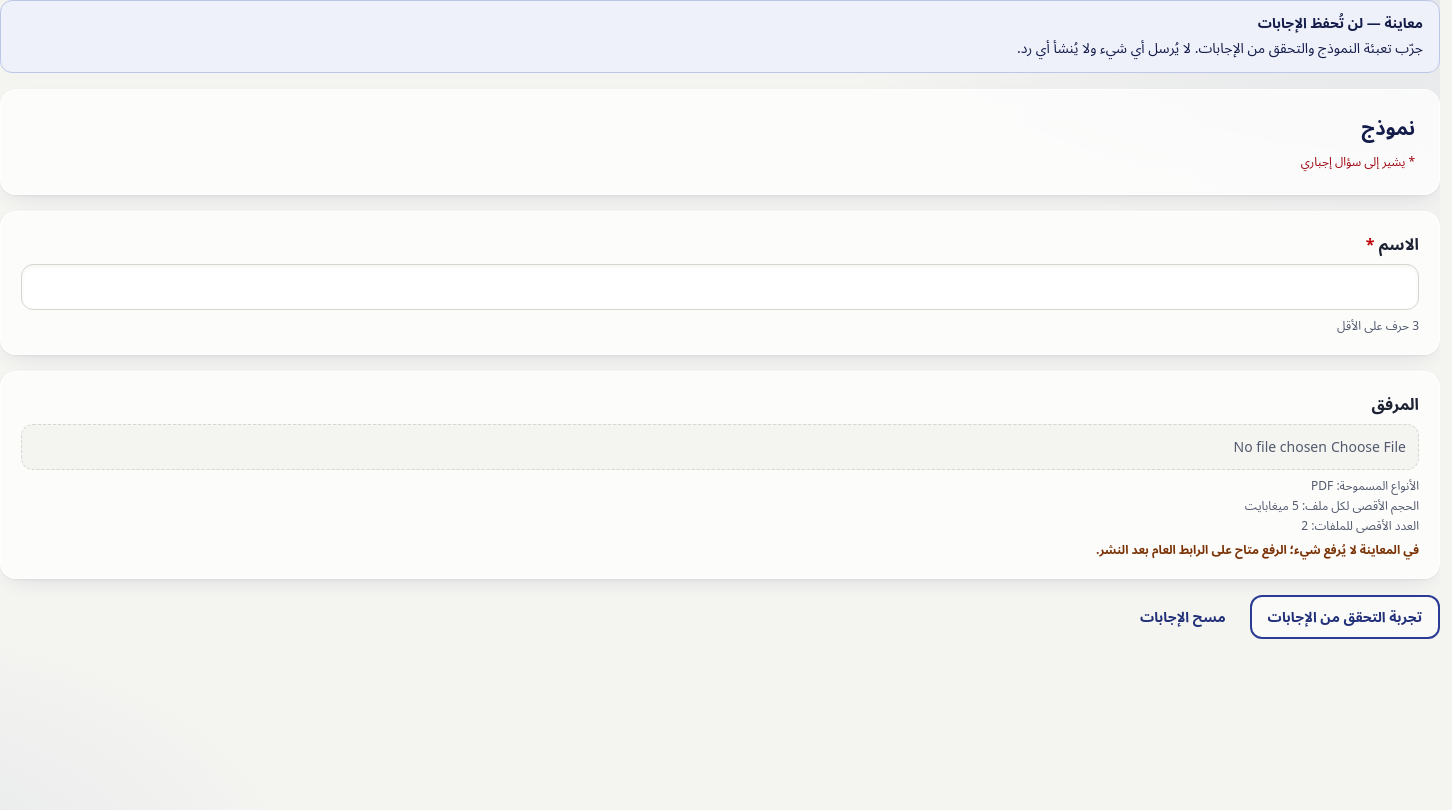
Test: FormRenderer › معاينة دون إرسال: لا زر إرسال، والتحقق يعرض الأخطاء، والملف معطّل
The width and height of the screenshot is (1452, 810).
Expected: the text "معاينة — لن تُحفظ الإجابات" is shown, [1258,13,1423,32]
Click the button "تجربة التحقق من الإجابات" at (1345, 617), box [1250,595,1440,639]
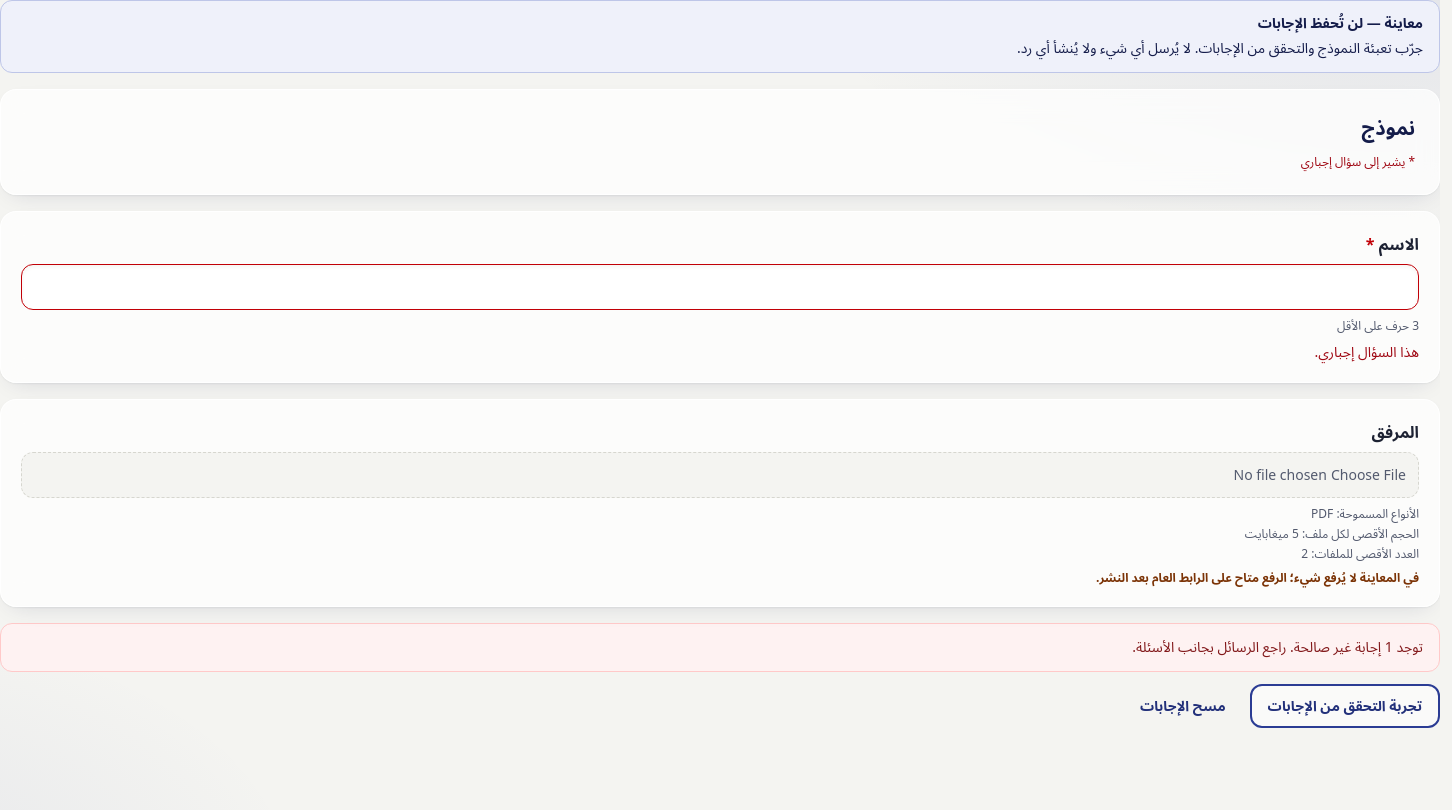
Expected: the text "هذا السؤال إجباري." is shown, [1314,342,1419,361]
Type "ab" into the field labelled "الاسم *" at (720, 287), box [21,264,1419,310]
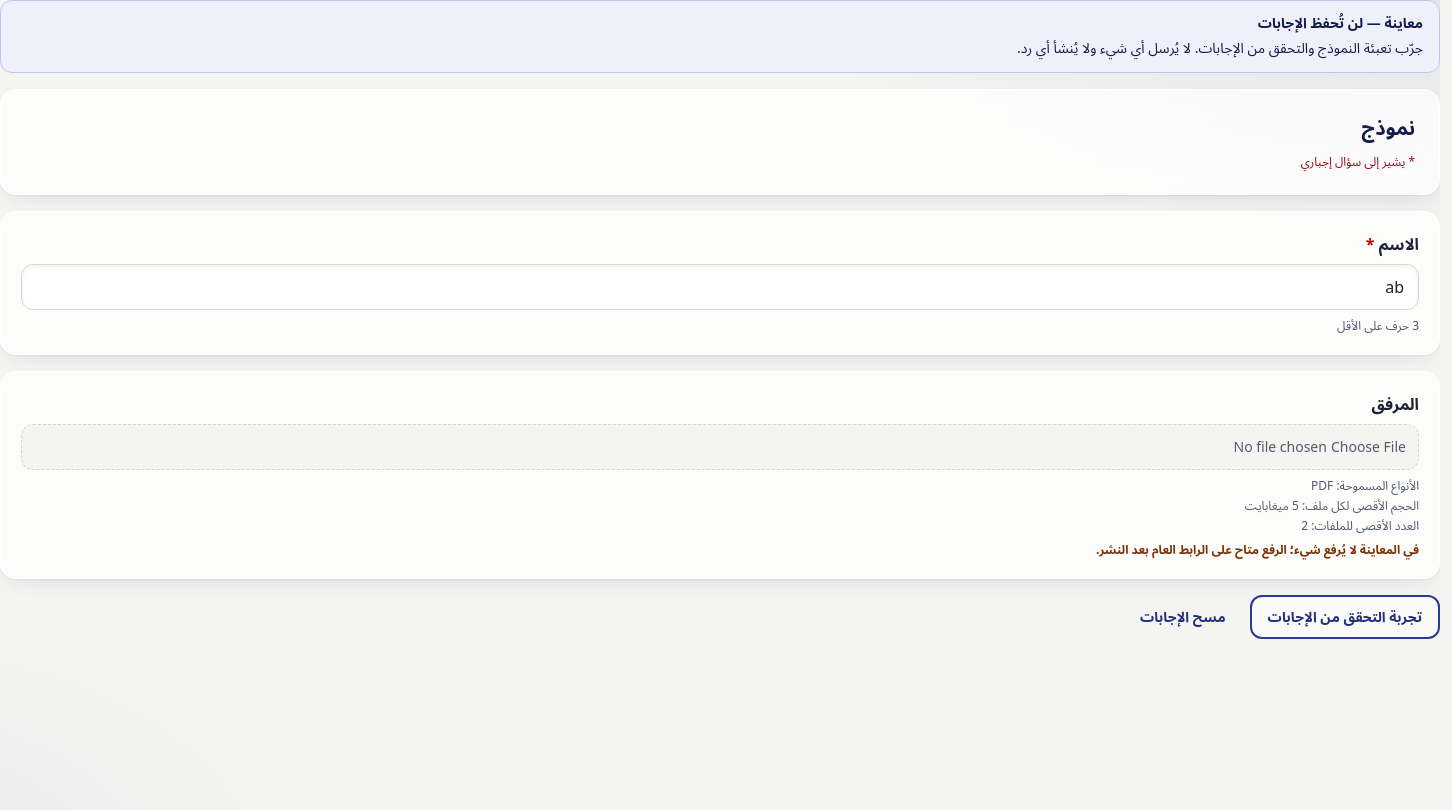
Click the button "تجربة التحقق من الإجابات" at (1345, 617), box [1250,595,1440,639]
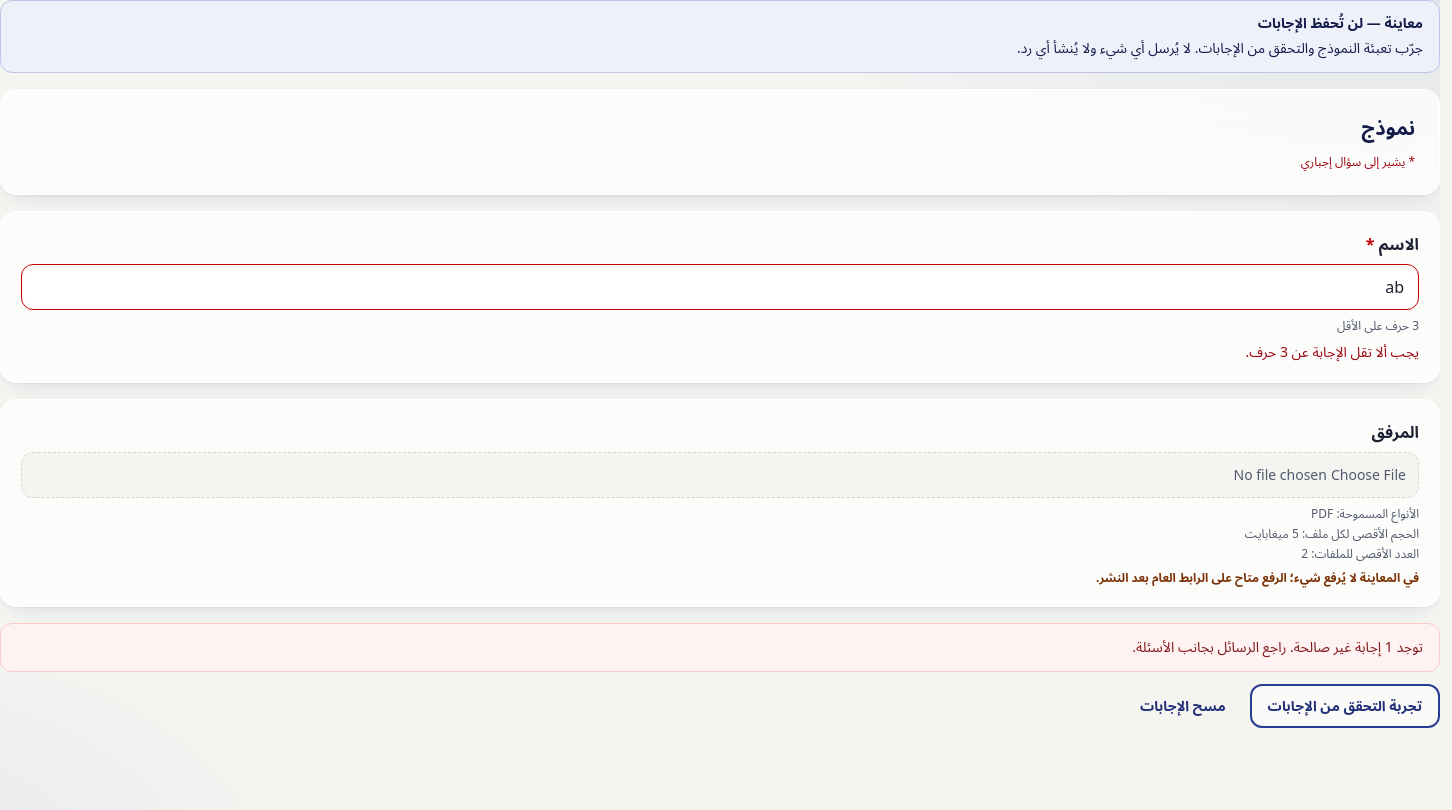
Expected: the text "يجب ألا تقل الإجابة عن 3 حرف." is shown, [1245,342,1419,361]
Replace the text in the field labelled "الاسم *" with "سارة" at (720, 287), box [21,264,1419,310]
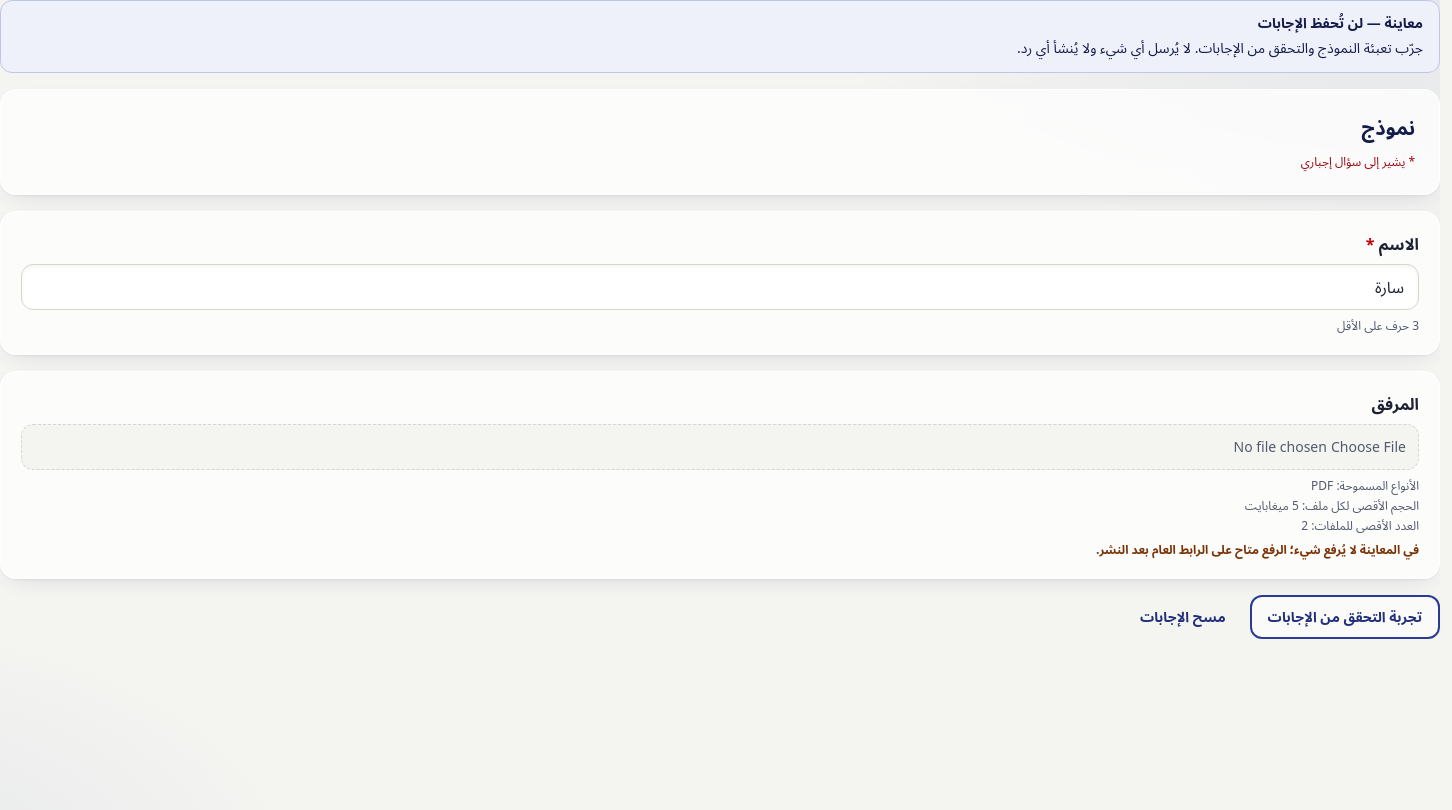
Click the button "تجربة التحقق من الإجابات" at (1345, 617), box [1250,595,1440,639]
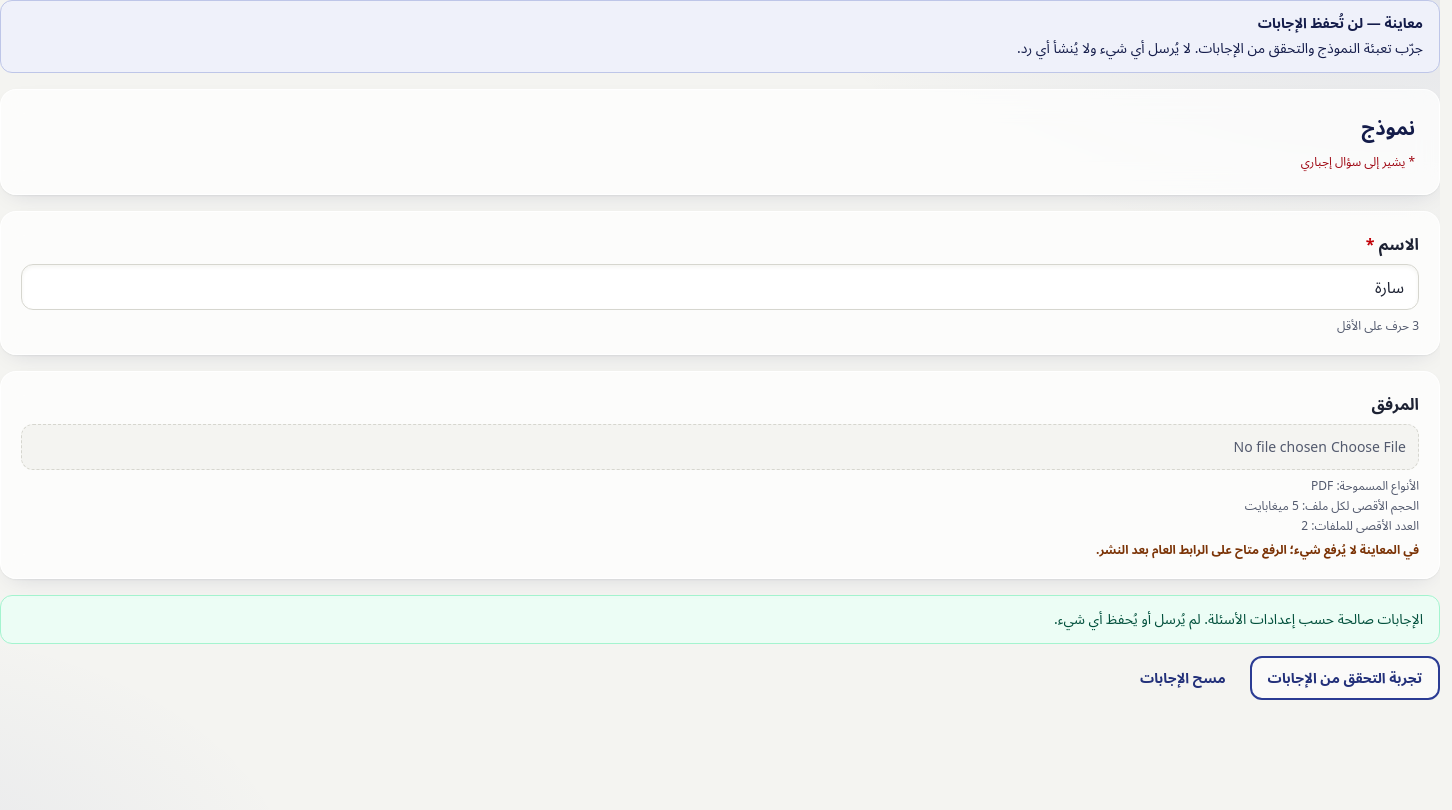
Expected: the file field labelled "المرفق" is disabled, [21,424,1419,470]
Expected: the text "الإجابات صالحة" is shown, [1054,609,1423,628]
